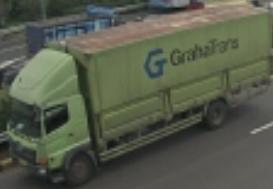truck: (1, 45, 104, 189)
